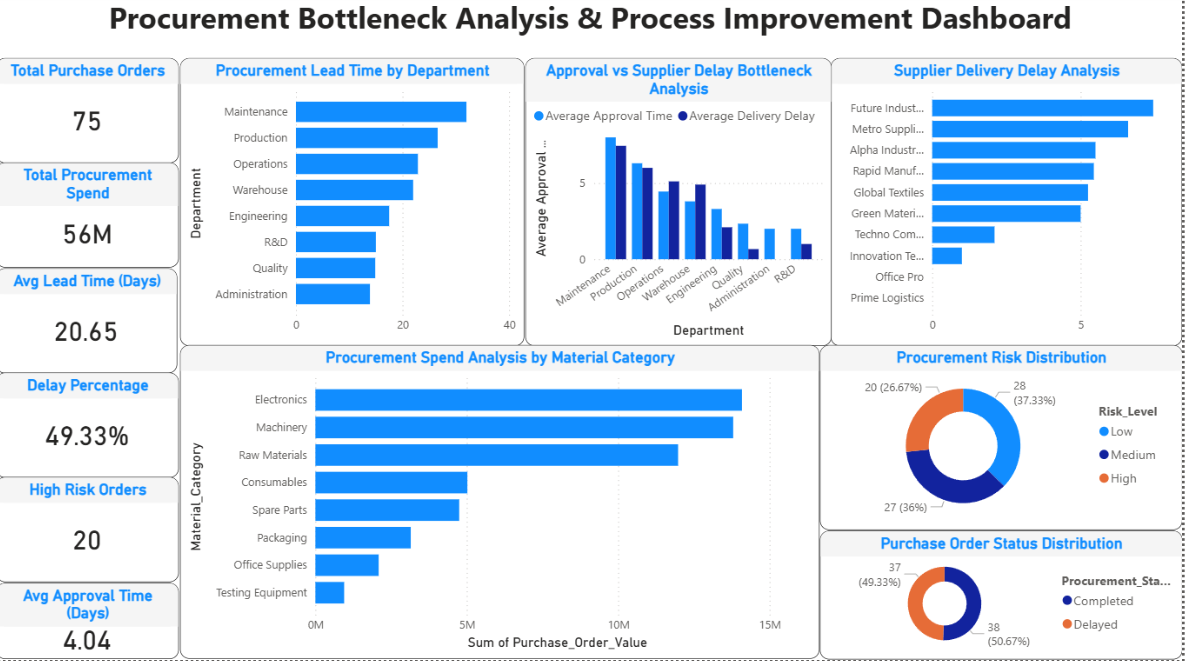

Layout of this report page (visuals, bound fields, positions):
{"tool":"powerbi","page":{"name":"Dashboard","canvas":[1280,720],"ordinal":0},"visuals":[{"type":"textbox","box":[30.7,0,1219,71],"z":0},{"type":"card","title":"Total Purchase Orders","fields":{"Values":["Sheet1.Total Purchase Orders"]},"box":[0,70.4,197.4,113.4],"z":1000},{"type":"card","title":"Total Procurement Spend","fields":{"Values":["Sheet1.Total Procurement Spend"]},"box":[0,183.7,197.4,113.4],"z":2000},{"type":"card","title":"Avg Lead Time (Days)","fields":{"Values":["Sheet1.Average Lead Time"]},"box":[0,297.1,195.4,113.4],"z":3000},{"type":"card","title":"Avg Approval Time (Days)","fields":{"Values":["Sheet1.Average Approval Time"]},"box":[0,637.1,197.4,82.1],"z":4000},{"type":"card","title":"Delay Percentage","fields":{"Values":["Sheet1.Delay Percentage"]},"box":[0,410.4,197.4,113.4],"z":5000},{"type":"card","title":"High Risk Orders","fields":{"Values":["Sheet1.High Risk Orders"]},"box":[0,523.8,197.4,113.4],"z":6000},{"type":"clusteredBarChart","title":"Procurement Lead Time by Department","fields":{"Category":["Sheet1.Department"],"Y":["Sheet1.Average Lead Time"]},"box":[199.3,70.4,371.3,310.7],"z":7000},{"type":"clusteredBarChart","title":"Supplier Delivery Delay Analysis","fields":{"Category":["Sheet1.Supplier_Name"],"Y":["Sheet1.Average Delivery Delay"]},"box":[901,70.4,379.2,310.7],"z":8000},{"type":"donutChart","title":"Procurement Risk Distribution","fields":{"Category":["Sheet1.Risk_Level"],"Y":["CountNonNull(Sheet1.PO_ID)"]},"box":[889.2,381.1,390.9,199.3],"z":9000},{"type":"clusteredColumnChart","title":"Approval vs Supplier Delay Bottleneck Analysis","fields":{"Category":["Sheet1.Department"],"Y":["Sheet1.Average Approval Time","Sheet1.Average Delivery Delay"]},"box":[570.7,70.4,330.3,310.7],"z":9001},{"type":"donutChart","title":"Purchase Order Status Distribution","fields":{"Category":["Sheet1.Procurement_Status"],"Y":["CountNonNull(Sheet1.PO_ID)"]},"box":[889.2,580.5,390.9,138.8],"z":9002},{"type":"clusteredBarChart","title":"Procurement Spend Analysis by Material Category","fields":{"Y":["Sum(Sheet1.Purchase_Order_Value)"],"Category":["Sheet1.Material_Category"]},"box":[199.3,381.1,689.9,338.1],"z":9003}]}

Visuals, with their boxes in screenshot pixels (x1, y1, x2, y2), scaled from the page's 1280x720 canvas onto the 1185x661 screenshot:
textbox: x1=28, y1=0, x2=1157, y2=65
"Total Purchase Orders" card: x1=0, y1=65, x2=183, y2=169
"Total Procurement Spend" card: x1=0, y1=169, x2=183, y2=273
"Avg Lead Time (Days)" card: x1=0, y1=273, x2=181, y2=377
"Avg Approval Time (Days)" card: x1=0, y1=585, x2=183, y2=660
"Delay Percentage" card: x1=0, y1=377, x2=183, y2=481
"High Risk Orders" card: x1=0, y1=481, x2=183, y2=585
"Procurement Lead Time by Department" clusteredBarChart: x1=185, y1=65, x2=528, y2=350
"Supplier Delivery Delay Analysis" clusteredBarChart: x1=834, y1=65, x2=1184, y2=350
"Procurement Risk Distribution" donutChart: x1=823, y1=350, x2=1184, y2=533
"Approval vs Supplier Delay Bottleneck Analysis" clusteredColumnChart: x1=528, y1=65, x2=834, y2=350
"Purchase Order Status Distribution" donutChart: x1=823, y1=533, x2=1184, y2=660
"Procurement Spend Analysis by Material Category" clusteredBarChart: x1=185, y1=350, x2=823, y2=660
